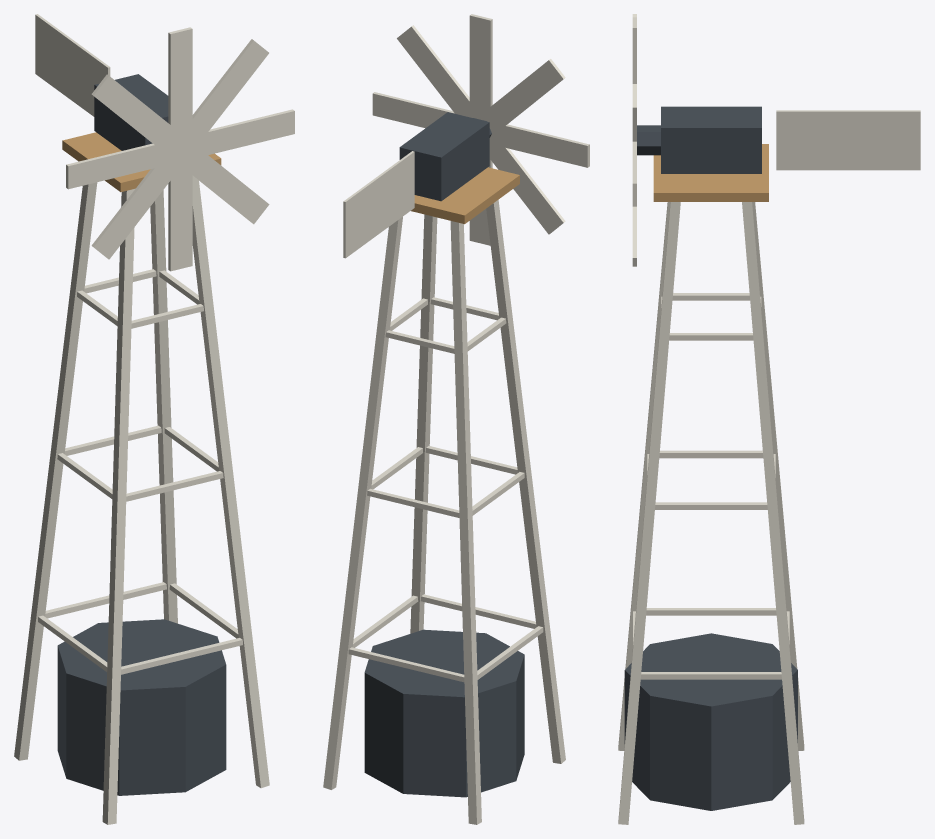
File: FM_Windmill_01.glb
3 views of the same model, side by side, from view 1: azimuth 30°, elevation 25°; view 2: azimuth 150°, elevation 25°; view 3: azimuth 270°, elevation 25° (orthographic). The views are drawn at different scales.
Visible parts, largest first — view 1: FM_Windmill_01; view 2: FM_Windmill_01; view 3: FM_Windmill_01.
Part boxes in pixels (x1,y1,x2,y2): FM_Windmill_01: (14, 14, 294, 824); FM_Windmill_01: (323, 14, 589, 824); FM_Windmill_01: (618, 14, 920, 824).
Size of the model in its own units: 3.6 by 11.68 by 4.19.
Materials: 1 (1 with a texture image).
